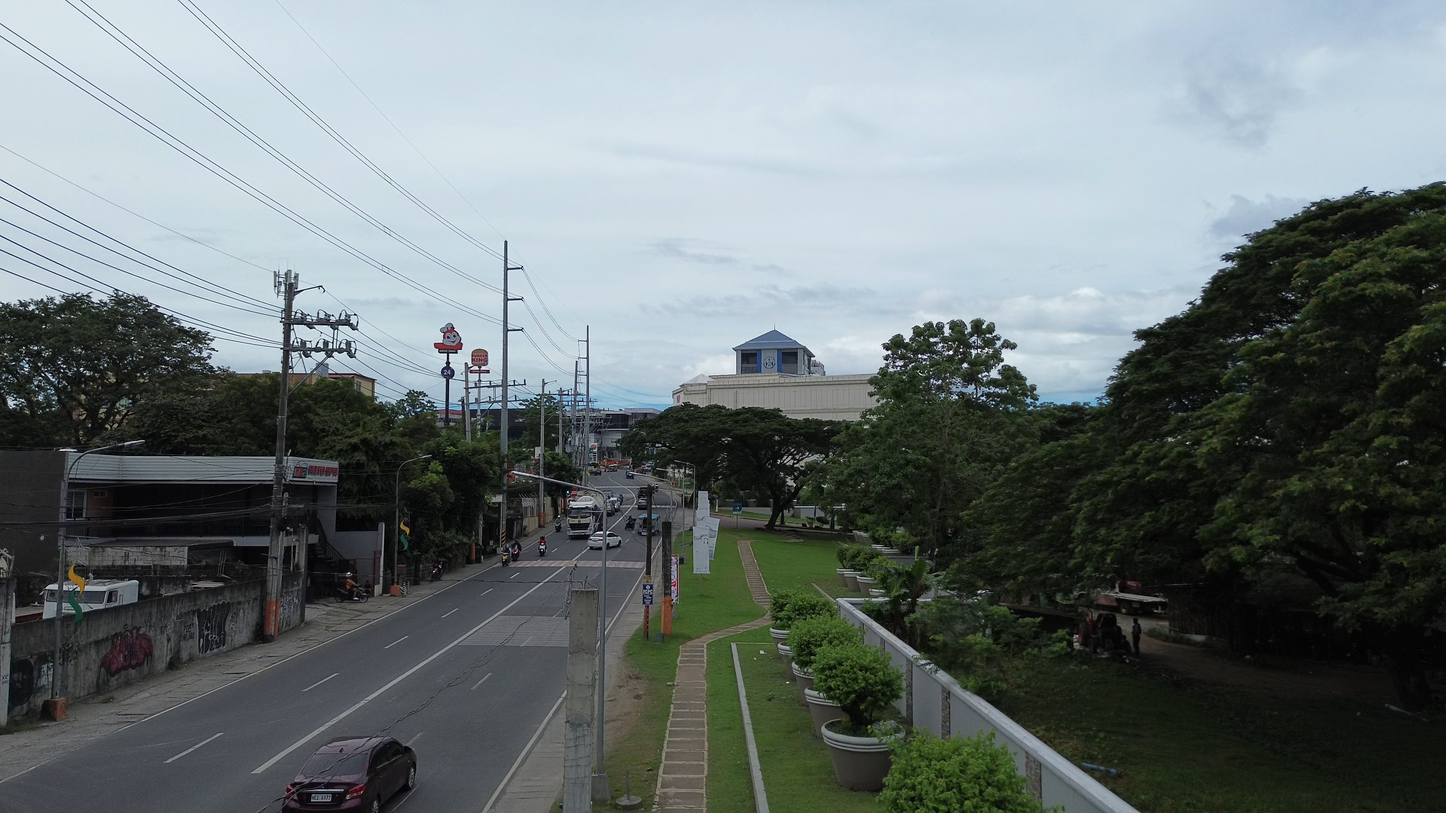car: (283, 737, 416, 813), (588, 531, 604, 549), (625, 470, 635, 479)
motorcycle: (334, 587, 369, 602), (431, 562, 442, 581), (537, 537, 547, 556)
vehicle: (76, 579, 139, 613), (568, 496, 602, 538), (537, 537, 547, 556)
